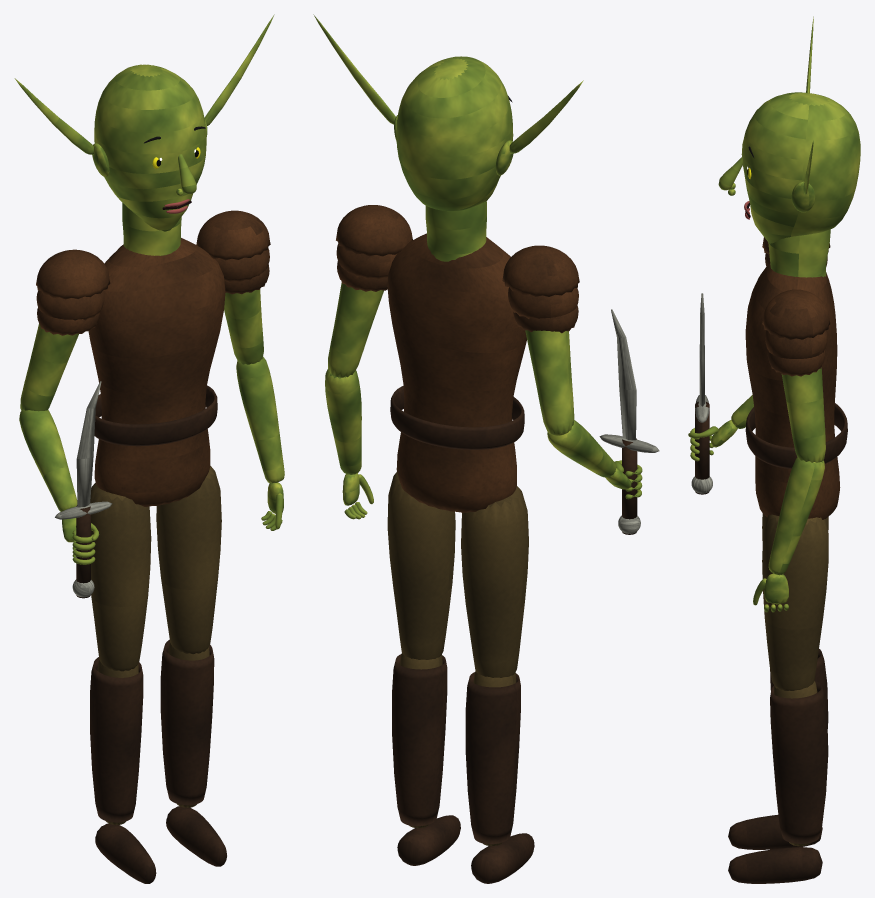
Rendered from mon_forest_goblin_raider.glb.
The picture shows the model from 3 angles, left to right: view 1: azimuth 30°, elevation 25°; view 2: azimuth 150°, elevation 25°; view 3: azimuth 270°, elevation 25°; orthographic projection. The views are drawn at different scales.
Visible parts, largest first — view 1: torso_body_body, head_skull, leg_r, leg_l, shin_l_boot, shin_r_boot, forearm_l_arm, forearm_r_arm, torso_belt, arm_r_pauldron0, arm_r, arm_l_pauldron0 (+12 smaller); view 2: torso_body_body, head_skull, leg_r, leg_l, shin_r_boot, shin_l_boot, arm_r, torso_belt, arm_l, arm_r_pauldron0, arm_l_pauldron0, forearm_l_arm (+12 smaller); view 3: head_skull, torso_body_body, leg_l, shin_l_boot, forearm_l_arm, arm_l, shin_l_foot, arm_l_pauldron0, head_neck, torso_belt, shin_r_foot, arm_l_pauldron1 (+10 smaller).
Part boxes in pixels (<box>): torso_body_body: <box>88,238,225,506</box>; head_skull: <box>94,64,206,231</box>; leg_r: <box>90,483,151,671</box>; leg_l: <box>156,466,221,654</box>; shin_l_boot: <box>160,640,214,805</box>; shin_r_boot: <box>90,657,143,822</box>; forearm_l_arm: <box>236,356,284,483</box>; forearm_r_arm: <box>19,409,77,511</box>; torso_belt: <box>94,385,217,446</box>; arm_r_pauldron0: <box>36,249,110,299</box>; arm_r: <box>20,323,78,411</box>; arm_l_pauldron0: <box>196,210,270,260</box>; torso_body_body: <box>387,233,526,512</box>; head_skull: <box>396,56,513,211</box>; leg_r: <box>461,486,528,677</box>; leg_l: <box>387,472,455,659</box>; shin_r_boot: <box>465,672,520,844</box>; shin_l_boot: <box>392,654,447,826</box>; arm_r: <box>525,330,574,435</box>; torso_belt: <box>390,385,524,449</box>; arm_l: <box>328,282,383,377</box>; arm_r_pauldron0: <box>502,245,579,296</box>; arm_l_pauldron0: <box>336,205,412,256</box>; forearm_l_arm: <box>325,369,361,474</box>; head_skull: <box>741,92,860,243</box>; torso_body_body: <box>745,263,840,519</box>; leg_l: <box>762,514,828,690</box>; shin_l_boot: <box>770,681,828,843</box>; forearm_l_arm: <box>768,457,824,575</box>; arm_l: <box>781,367,825,462</box>; shin_l_foot: <box>728,847,822,883</box>; arm_l_pauldron0: <box>762,289,830,339</box>; head_neck: <box>768,229,830,277</box>; torso_belt: <box>745,403,847,468</box>; shin_r_foot: <box>728,815,822,849</box>; arm_l_pauldron1: <box>765,330,827,358</box>.
Size of the model in its own units: 0.46 by 1.27 by 0.2523.
Materials: 13 (13 with a texture image).
